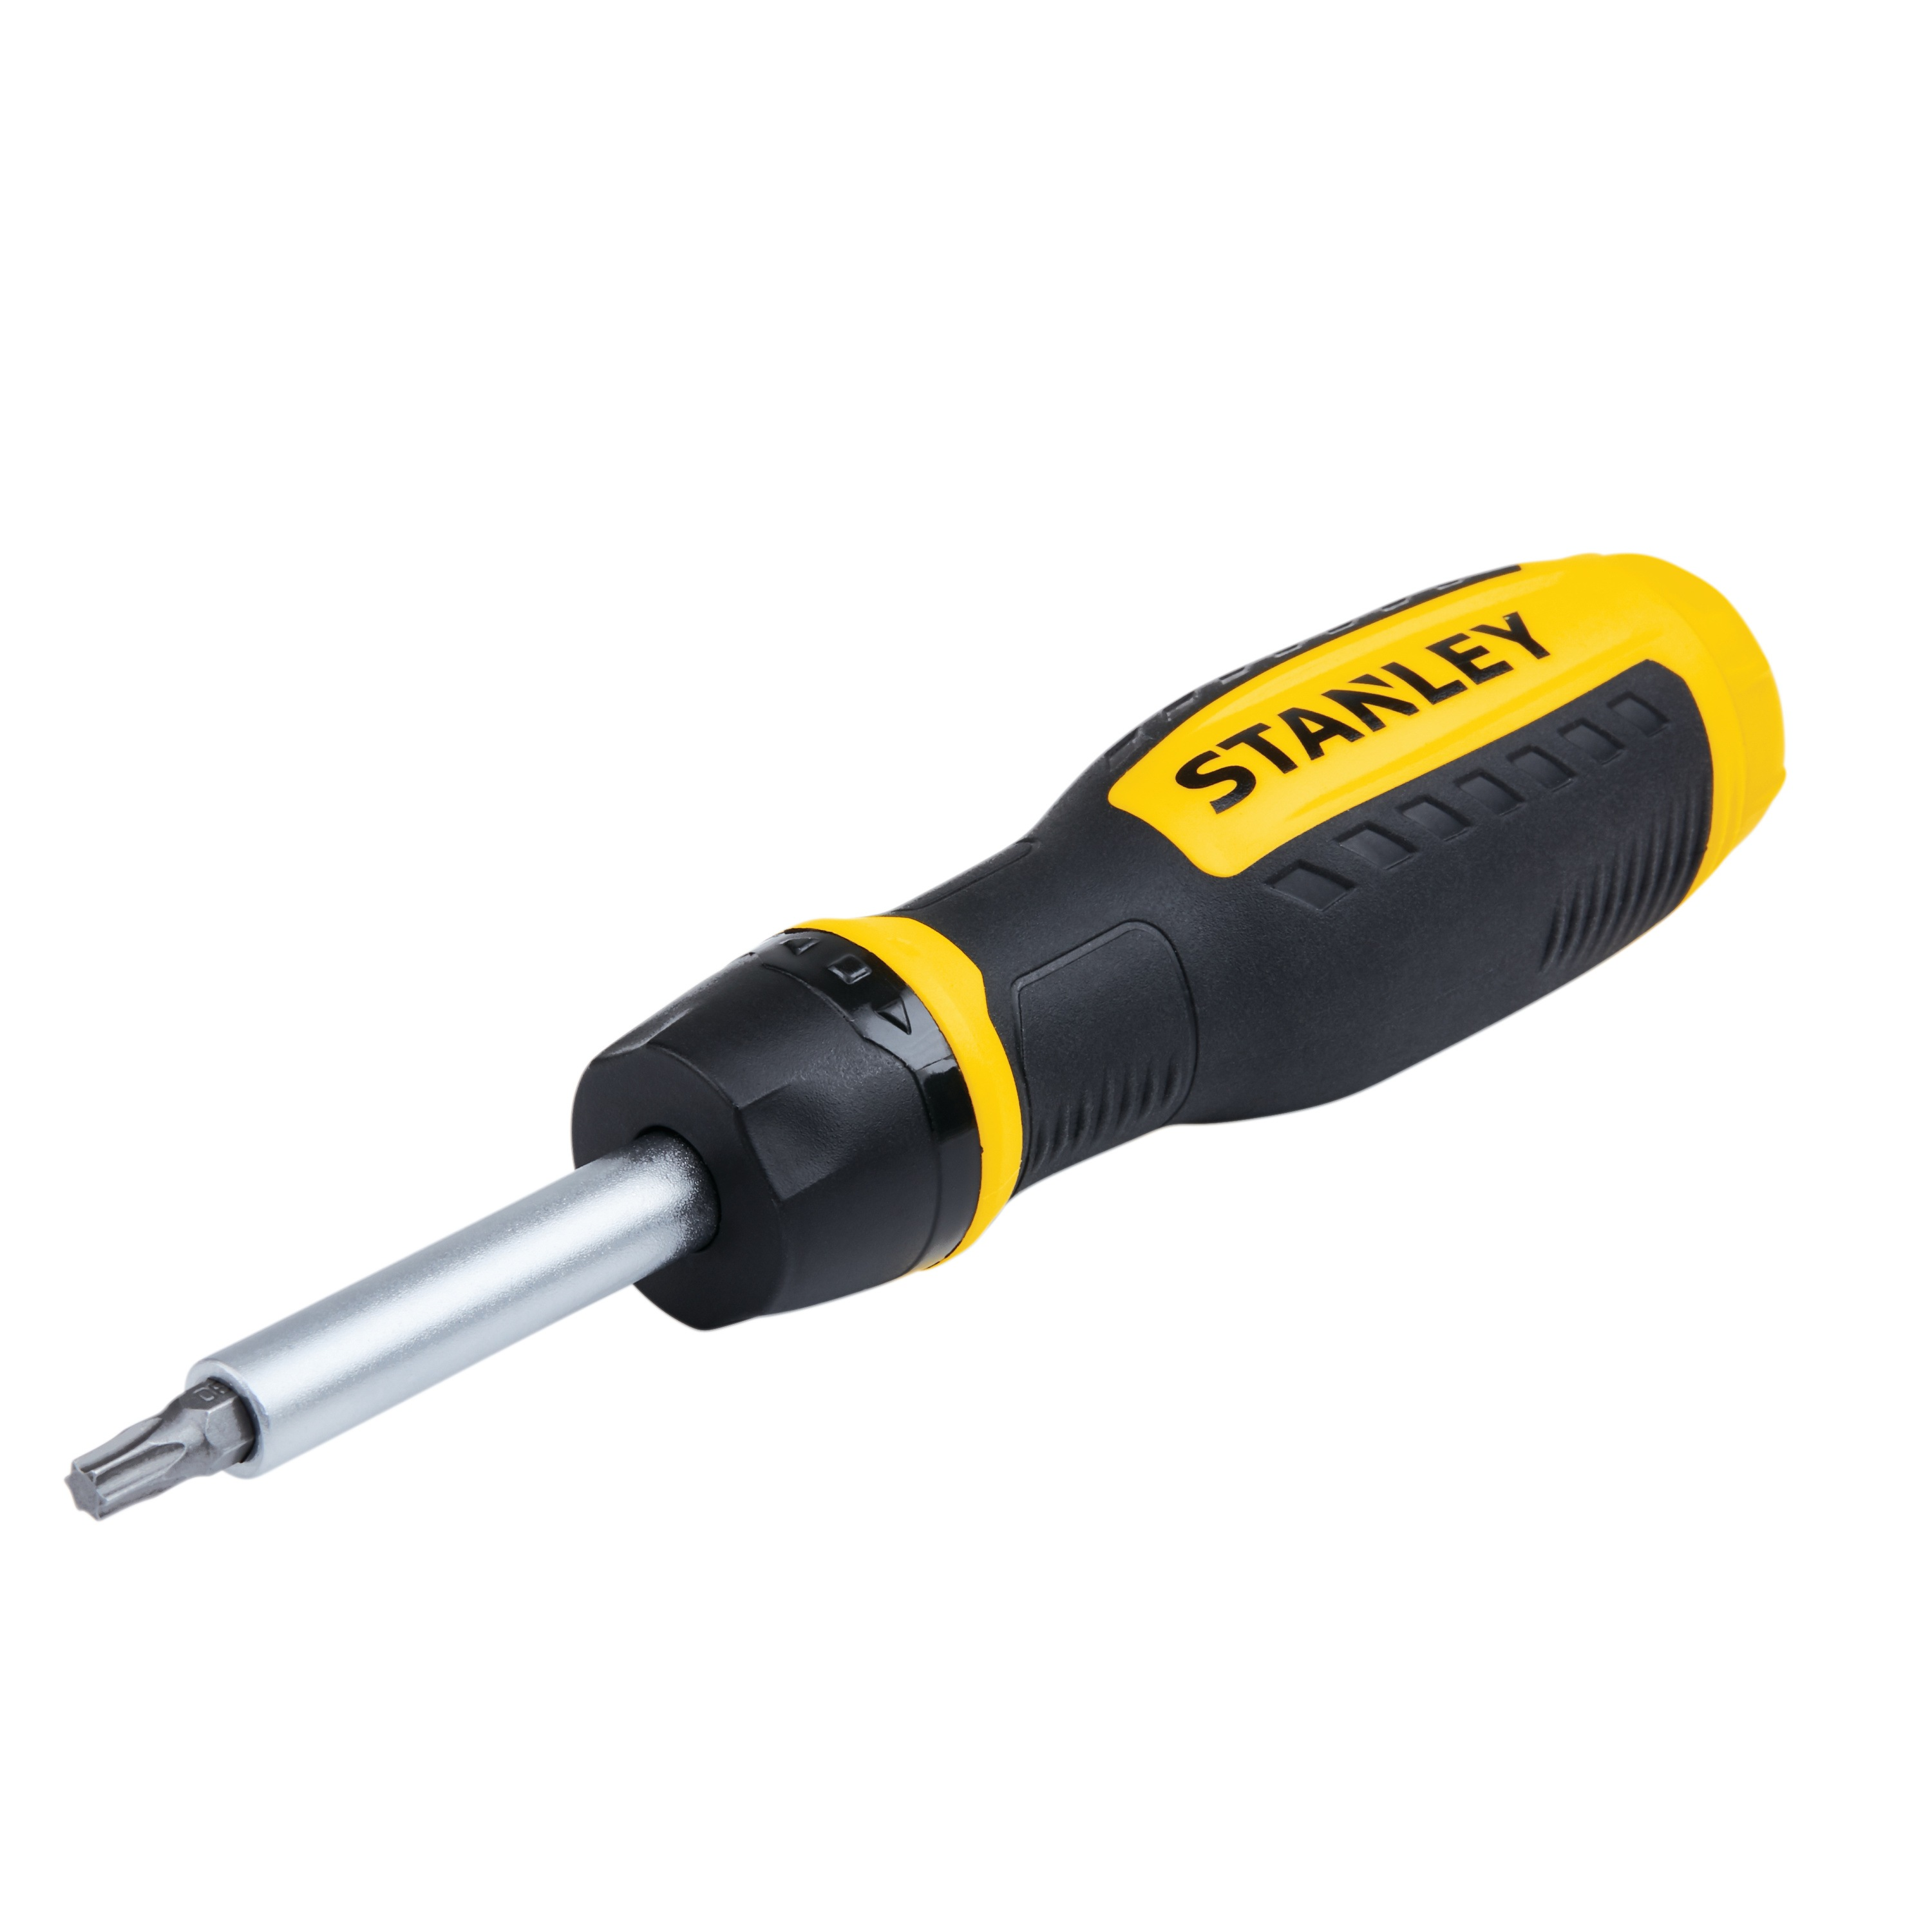screwdriver: (64, 547, 1787, 1527)
